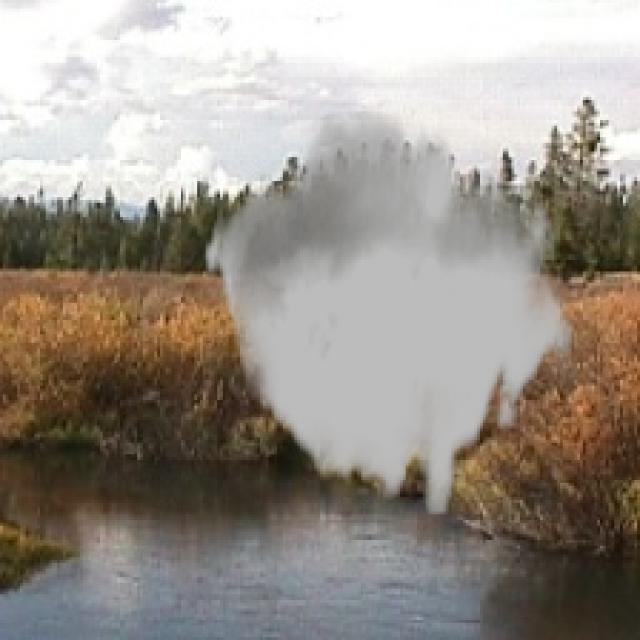Smoke: (202, 112, 574, 514)
